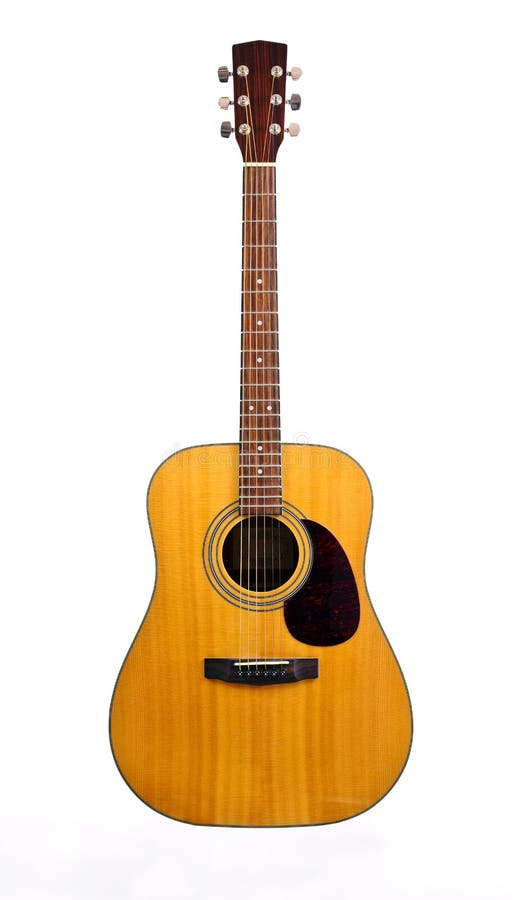guitar: (104, 2, 415, 845)
